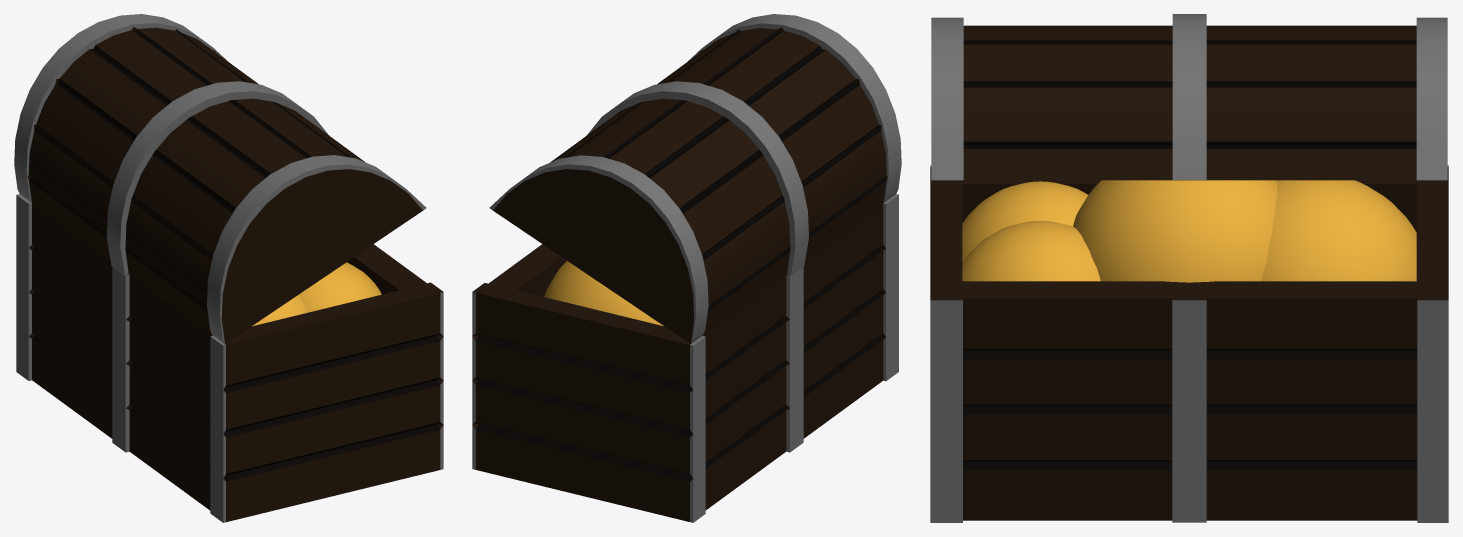
The model's file is Chest.fbx.
The picture shows the model from 3 angles, left to right: view 1: azimuth 30°, elevation 25°; view 2: azimuth 150°, elevation 25°; view 3: azimuth 270°, elevation 25°; orthographic projection. The views are drawn at different scales.
Parts seen in each view (by area): view 1: Chest; view 2: Chest; view 3: Chest.
Boxes of the visible parts, x1,y1,x2,y2 form: Chest: [14, 14, 443, 522]; Chest: [472, 14, 901, 522]; Chest: [930, 14, 1448, 522].
Bounding box in the file's own units: 20.36 × 28.66 × 32.07.
